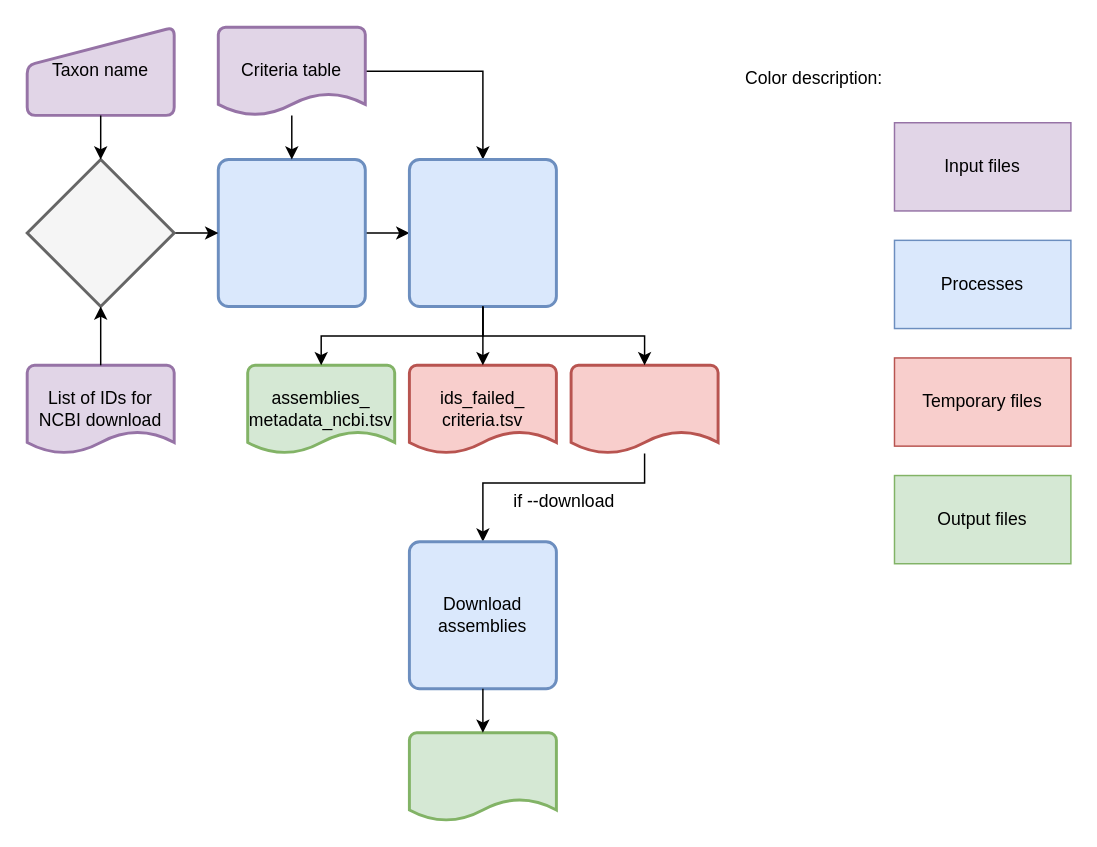
The diagram is 1097 pixels wide and 847 high, and some of its shapes have lost their labels. The shapes that lost their labels are listed below. From the top down, each one's centre as x and y in pixels, then its label:
At (100,232): "OR".
At (291,232): "Fetch metadata".
At (482,232): "Filter metadata".
At (644,408): "assemblies_ids_to_ download.tsv".
At (482,776): "assemblies_ncbi.zip".
